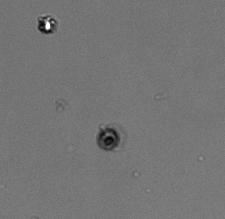Dead Cell: (97, 128, 118, 151)
Living Cell: (37, 15, 55, 33)
